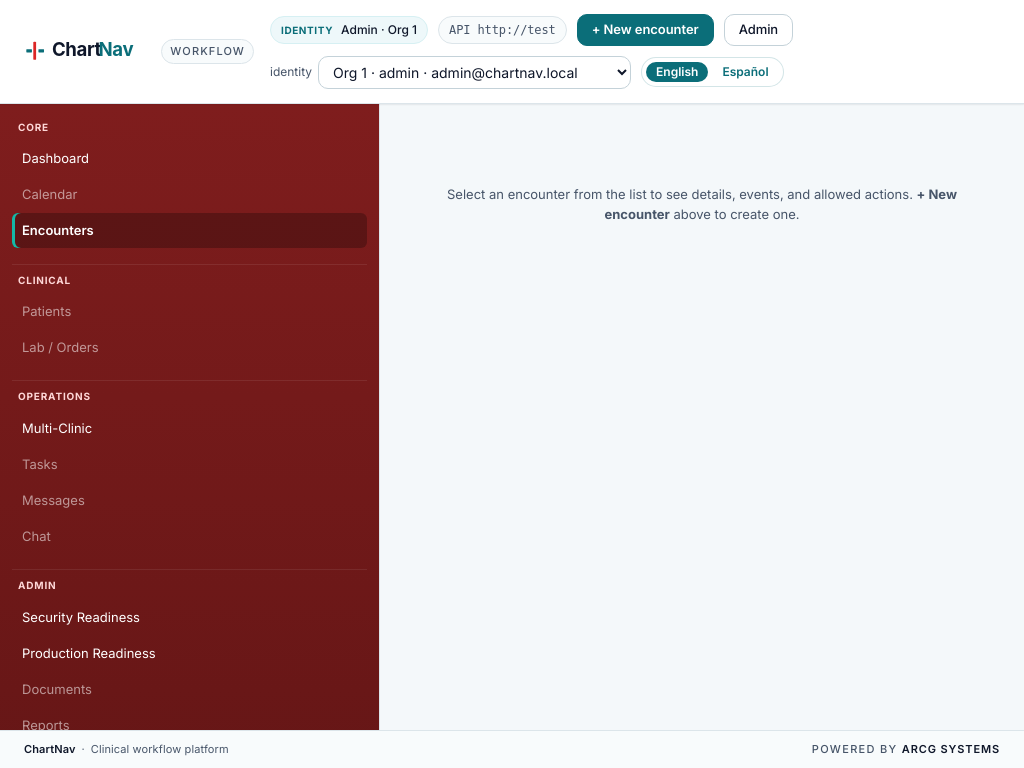
Test: App — Spanish localization (Phase A) › create-encounter modal renders Spanish field labels + buttons
The image size is (1024, 768).
Expected: the element with test id "identity-badge" is shown, top-left (270, 16), bottom-right (428, 44)
Step 1. Click the button with test id "app-lang-option-es" → (746, 72), box top-left (712, 62), bottom-right (779, 82)
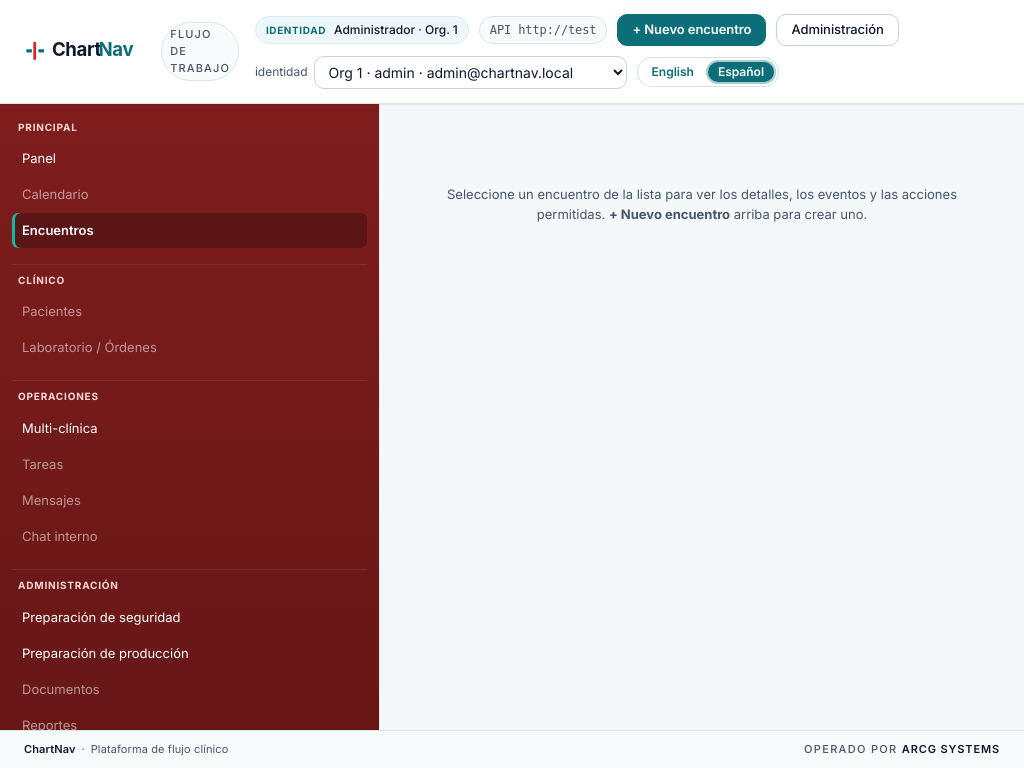
Step 2. Click the button with test id "open-create-encounter" → (692, 30), box top-left (617, 14), bottom-right (766, 46)
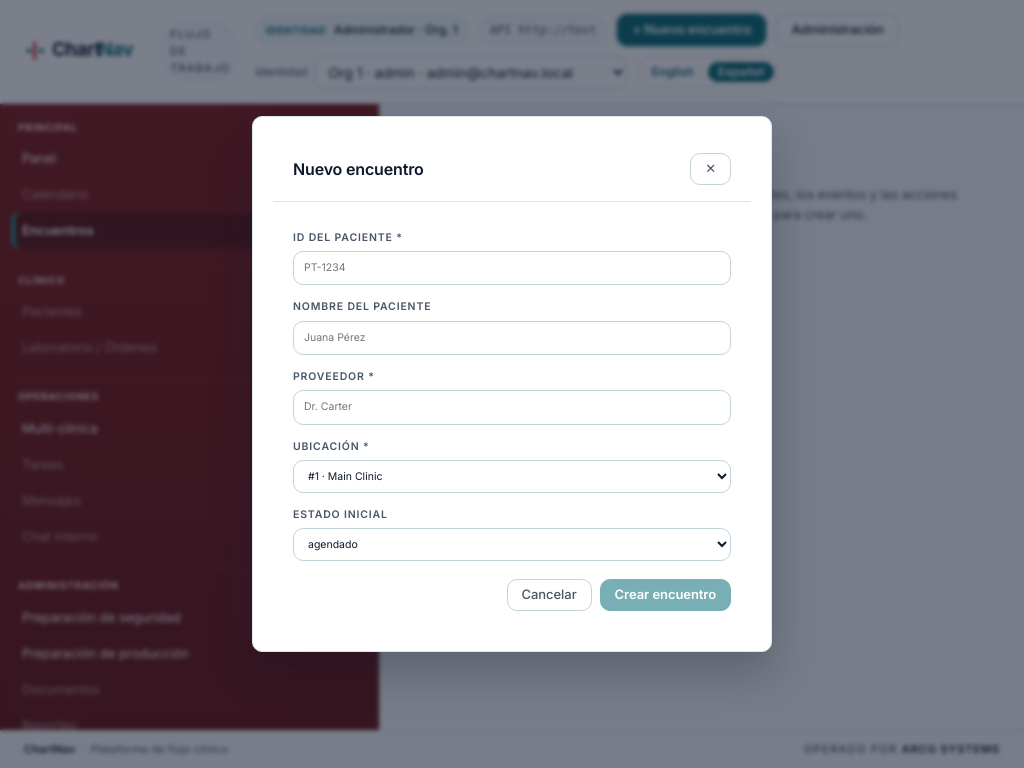
Result: the heading "Nuevo encuentro" is shown at top-left (293, 157), bottom-right (424, 182)
Result: the text "ID del paciente *" is shown at top-left (293, 230), bottom-right (731, 285)
Result: the text "Proveedor *" is shown at top-left (293, 369), bottom-right (731, 424)
